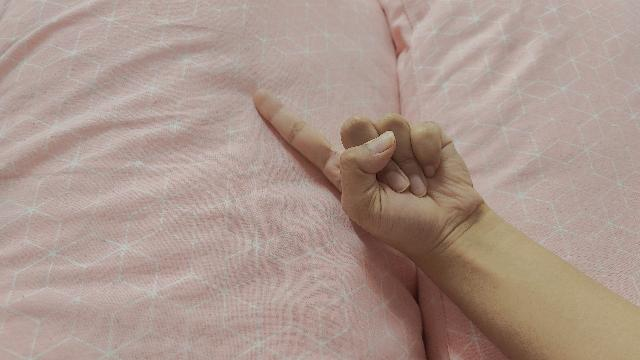soochi: (254, 94, 640, 360)
